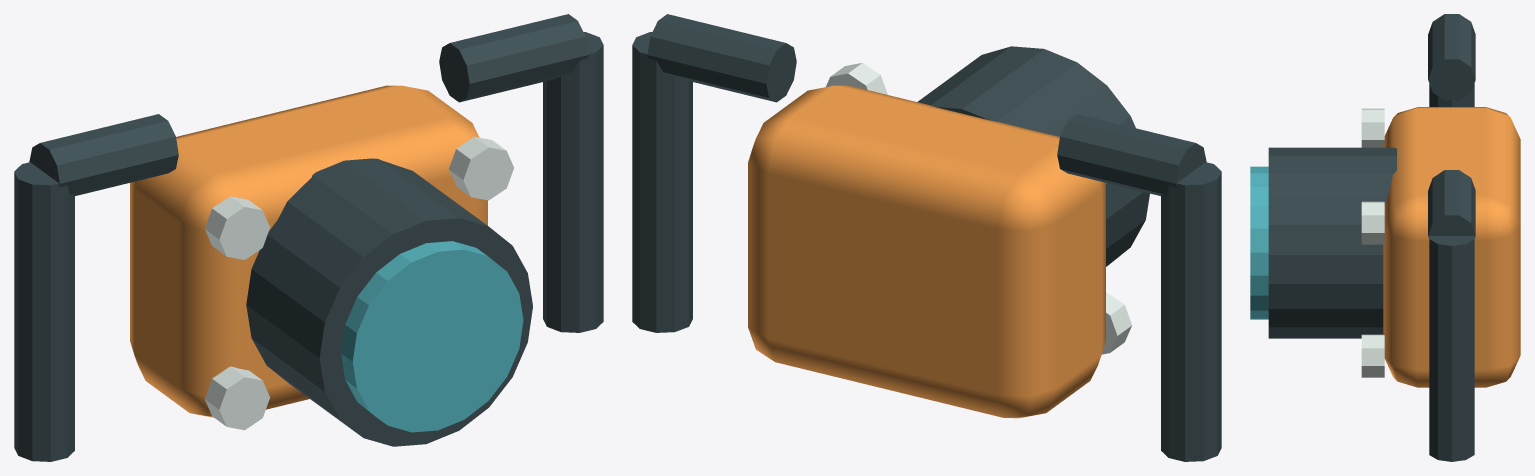
The model's file is underwater-camera-housing.glb.
3 views of the same model, side by side, from view 1: azimuth 30°, elevation 25°; view 2: azimuth 150°, elevation 25°; view 3: azimuth 270°, elevation 25° (orthographic). The views are drawn at different scales.
Visible parts, largest first — view 1: underwater-camera-housing; view 2: underwater-camera-housing; view 3: underwater-camera-housing.
Boxes of the visible parts, left/top/right/bottom form: underwater-camera-housing: left=14, top=14, right=603, bottom=461; underwater-camera-housing: left=632, top=14, right=1221, bottom=461; underwater-camera-housing: left=1250, top=14, right=1520, bottom=461.
Bounding box in the file's own units: 0.572 × 0.2847 × 0.295.
